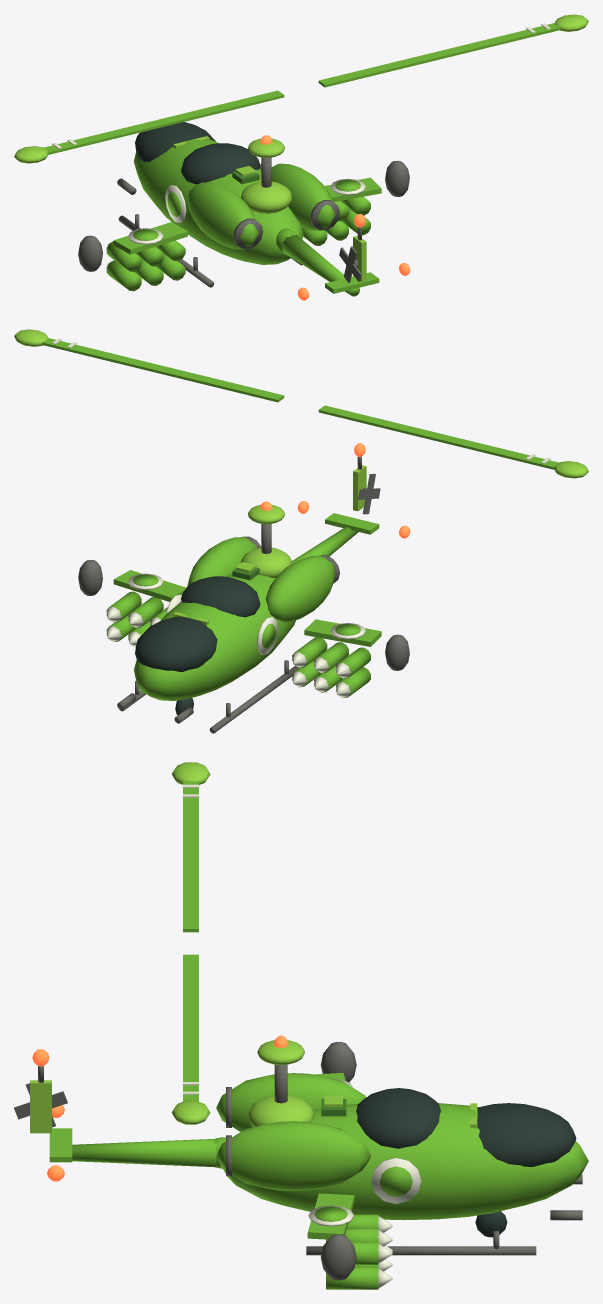
Rendered from helicoptero.gltf.
The picture shows the model from 3 angles, top to bottom: view 1: azimuth 30°, elevation 25°; view 2: azimuth 150°, elevation 25°; view 3: azimuth 270°, elevation 25°; orthographic projection. The views are drawn at different scales.
Visible parts, largest first — view 1: Fuselaje, Motor_Izq, Motor_Der, CabinaTrasera, RotorBlade_Der, RotorBlade_Izq, CabinaDelantera, BotalonCola, BaseRotor, Ala_Izq, LuzAla_Izq, LuzAla_Der (+14 smaller); view 2: Fuselaje, CabinaDelantera, Motor_Izq, CabinaTrasera, RotorBlade_Der, RotorBlade_Izq, Motor_Der, BaseRotor, Ala_Izq, Ala_Der, Patin_Izq, BotalonCola (+4 smaller); view 3: Fuselaje, Motor_Der, CabinaDelantera, CabinaTrasera, Motor_Izq, BotalonCola, RotorBlade_Izq, RotorBlade_Der, Patin_Der, BaseRotor, LuzAla_Der, Deriva (+8 smaller).
Boxes of the visible parts, bbox=[...] form: Fuselaje: bbox=[133, 139, 303, 264]; Motor_Izq: bbox=[187, 182, 258, 249]; Motor_Der: bbox=[271, 163, 335, 230]; CabinaTrasera: bbox=[181, 143, 260, 184]; RotorBlade_Der: bbox=[318, 23, 560, 87]; RotorBlade_Izq: bbox=[44, 90, 284, 154]; CabinaDelantera: bbox=[135, 122, 215, 161]; BotalonCola: bbox=[278, 229, 359, 296]; BaseRotor: bbox=[240, 181, 292, 213]; Ala_Izq: bbox=[113, 222, 187, 254]; LuzAla_Izq: bbox=[78, 235, 102, 271]; LuzAla_Der: bbox=[385, 160, 409, 196]; Fuselaje: bbox=[134, 574, 295, 700]; CabinaDelantera: bbox=[135, 616, 217, 671]; Motor_Izq: bbox=[265, 555, 335, 622]; CabinaTrasera: bbox=[181, 576, 260, 617]; RotorBlade_Der: bbox=[42, 338, 284, 402]; RotorBlade_Izq: bbox=[318, 405, 558, 469]; Motor_Der: bbox=[187, 537, 256, 586]; BaseRotor: bbox=[240, 547, 291, 578]; Ala_Izq: bbox=[304, 619, 381, 646]; Ala_Der: bbox=[113, 570, 186, 601]; Patin_Izq: bbox=[209, 665, 299, 733]; BotalonCola: bbox=[291, 527, 358, 563]; Fuselaje: bbox=[224, 1103, 588, 1220]; Motor_Der: bbox=[216, 1121, 370, 1191]; CabinaDelantera: bbox=[477, 1103, 576, 1166]; CabinaTrasera: bbox=[356, 1088, 440, 1148]; Motor_Izq: bbox=[216, 1073, 365, 1131]; BotalonCola: bbox=[72, 1139, 217, 1167]; RotorBlade_Izq: bbox=[183, 781, 198, 932]; RotorBlade_Der: bbox=[183, 954, 198, 1101]; Patin_Der: bbox=[306, 1246, 536, 1255]; BaseRotor: bbox=[247, 1095, 314, 1126]; LuzAla_Der: bbox=[320, 1234, 356, 1280]; Deriva: bbox=[30, 1080, 51, 1133].
Size of the model in its own units: 16.91 by 6.63 by 11.49.
